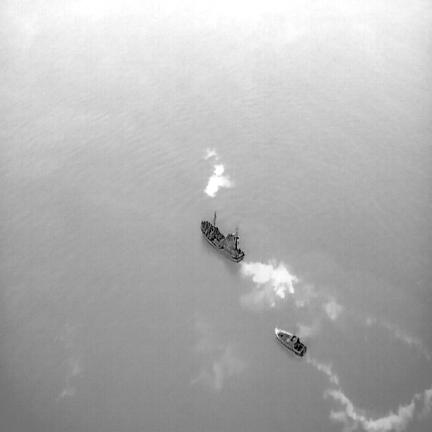flukeprints: (205, 172, 231, 196), (213, 165, 223, 177), (205, 149, 216, 158)
